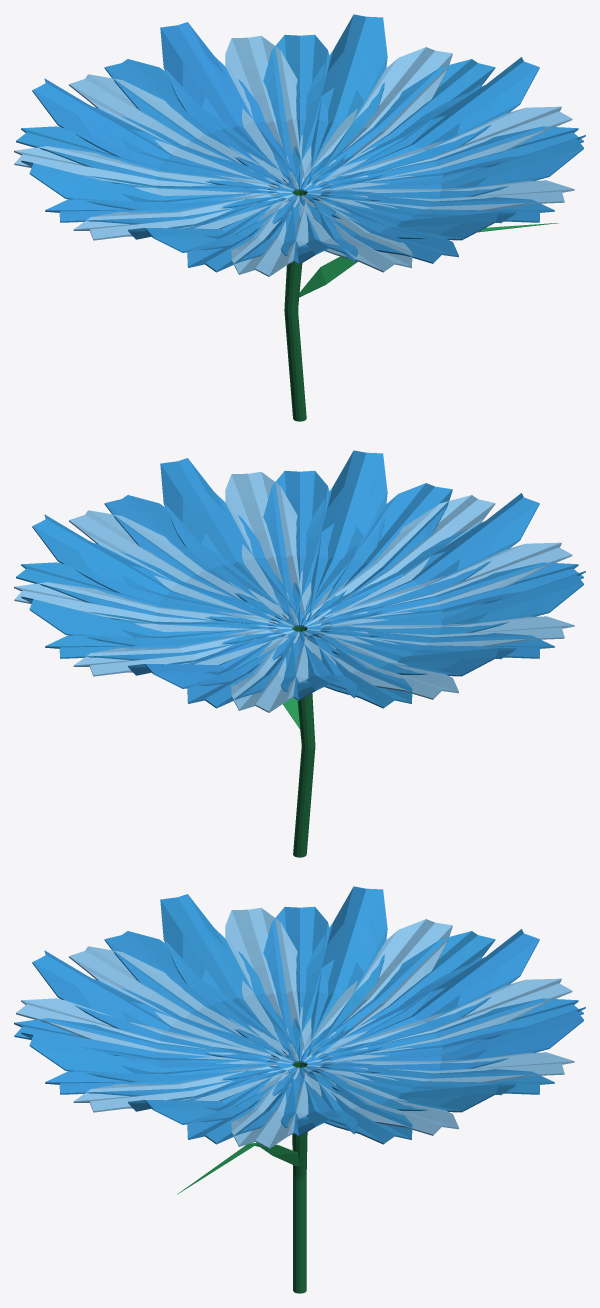
The model's file is Flower_10.fbx.
3 renders of one model, top to bottom at view 1: azimuth 30°, elevation 25°; view 2: azimuth 150°, elevation 25°; view 3: azimuth 270°, elevation 25°, orthographic.
Visible parts, largest first — view 1: Flower_10; view 2: Flower_10; view 3: Flower_10.
Part boxes in pixels (x1,y1,x2,y2): Flower_10: (14, 14, 585, 421); Flower_10: (14, 450, 585, 857); Flower_10: (14, 886, 585, 1293).
Size of the model in its own units: 613 by 341 by 614.
